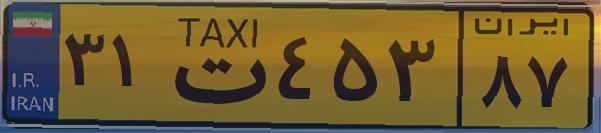1: (110, 28, 158, 98)
3: (385, 28, 445, 110), (57, 26, 110, 100)
4: (270, 28, 330, 110)
5: (330, 28, 385, 110)
7: (525, 38, 570, 115)
8: (475, 38, 525, 113)
ت: (158, 12, 270, 120)
